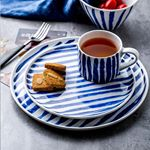cups: (73, 28, 140, 85)
